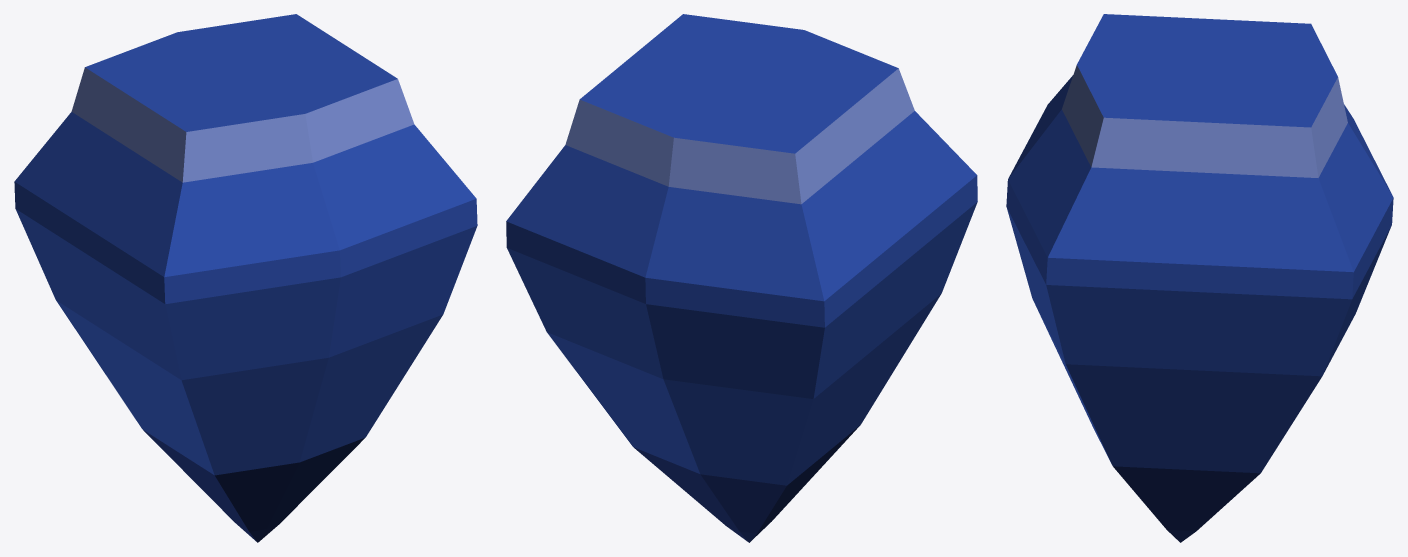
The model's file is sapphire.gltf.
3 views of the same model, side by side, from view 1: azimuth 30°, elevation 25°; view 2: azimuth 150°, elevation 25°; view 3: azimuth 270°, elevation 25° (orthographic). The views are drawn at different scales.
Visible parts, largest first — view 1: sapphire; view 2: sapphire; view 3: sapphire.
Boxes of the visible parts, left/top/right/bottom form: sapphire: left=14, top=14, right=477, bottom=542; sapphire: left=506, top=14, right=977, bottom=542; sapphire: left=1006, top=14, right=1393, bottom=542.
Size of the model in its own units: 0.142 by 0.2027 by 0.1492.
